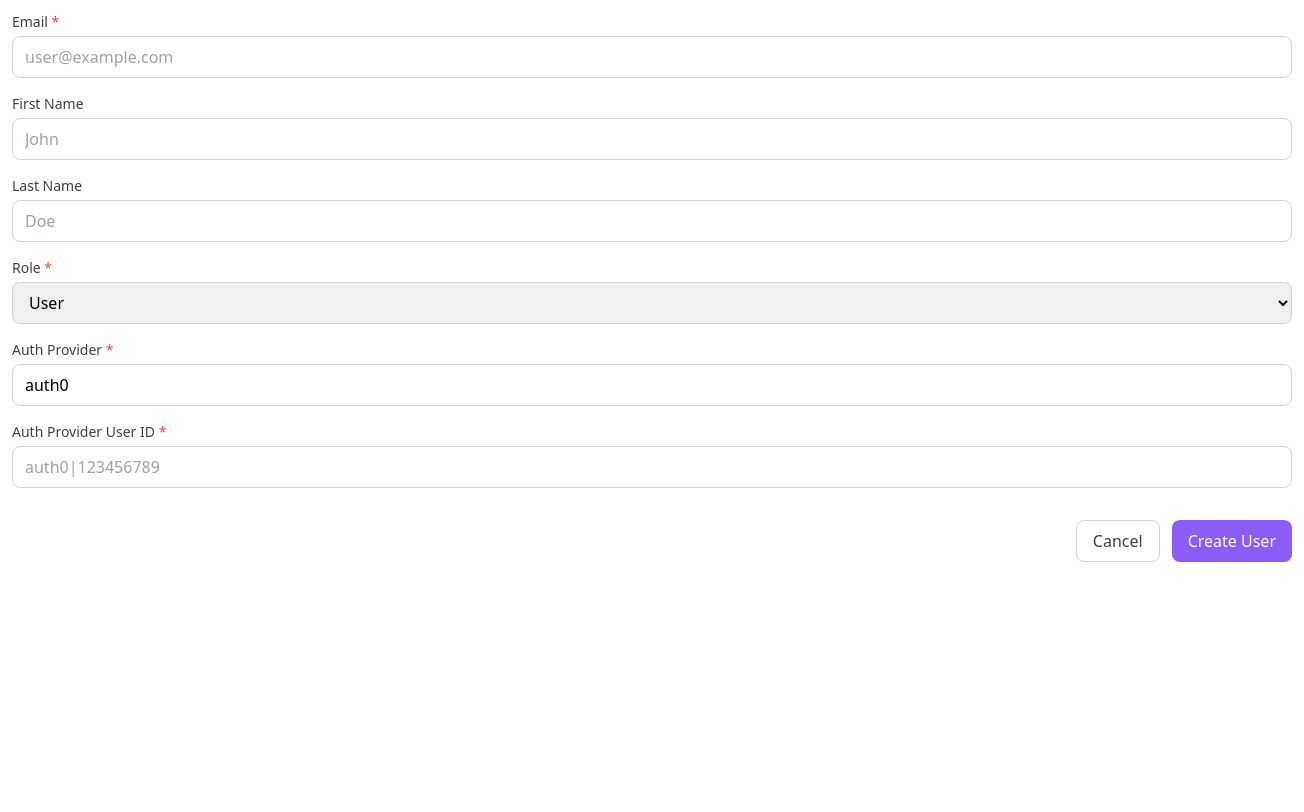
it: UserForm › validates auth provider is required for create
The width and height of the screenshot is (1304, 812).
Type "test@example.com" into the field labelled "Email *".
click(652, 57); type("test@example.com")  # box x1=12 y1=36 x2=1292 y2=78
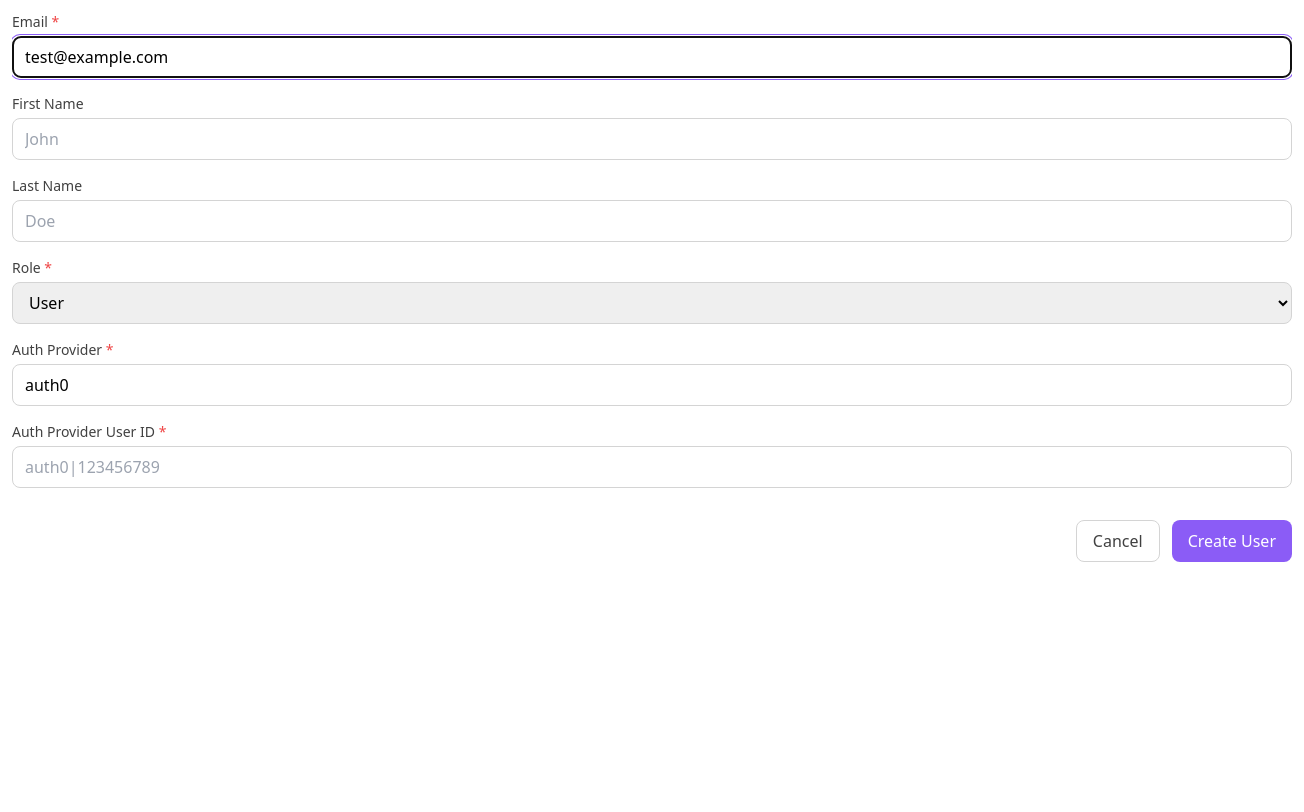
Clear the field labelled "Auth Provider *" at (652, 385), box x1=12 y1=364 x2=1292 y2=406
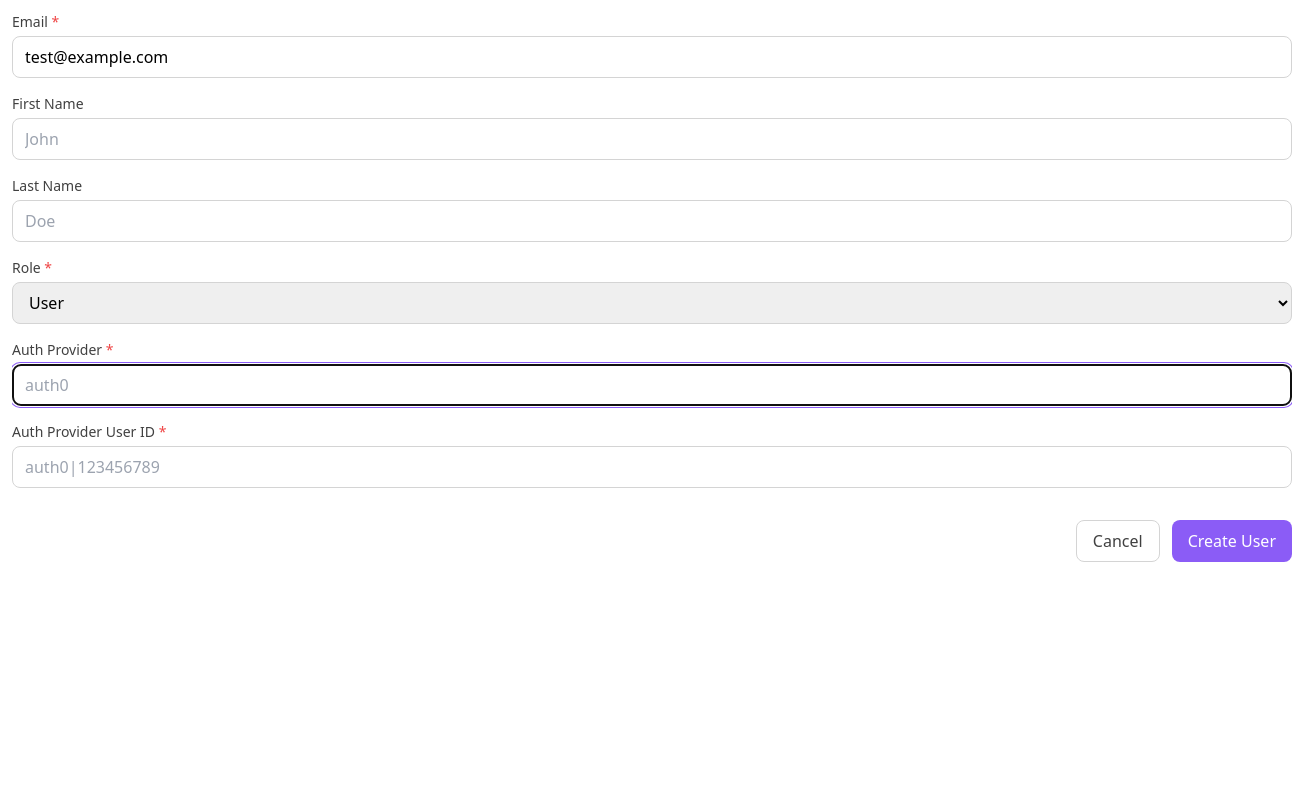
Click the button "Create User".
click(1232, 541)  # box x1=1172 y1=520 x2=1292 y2=562
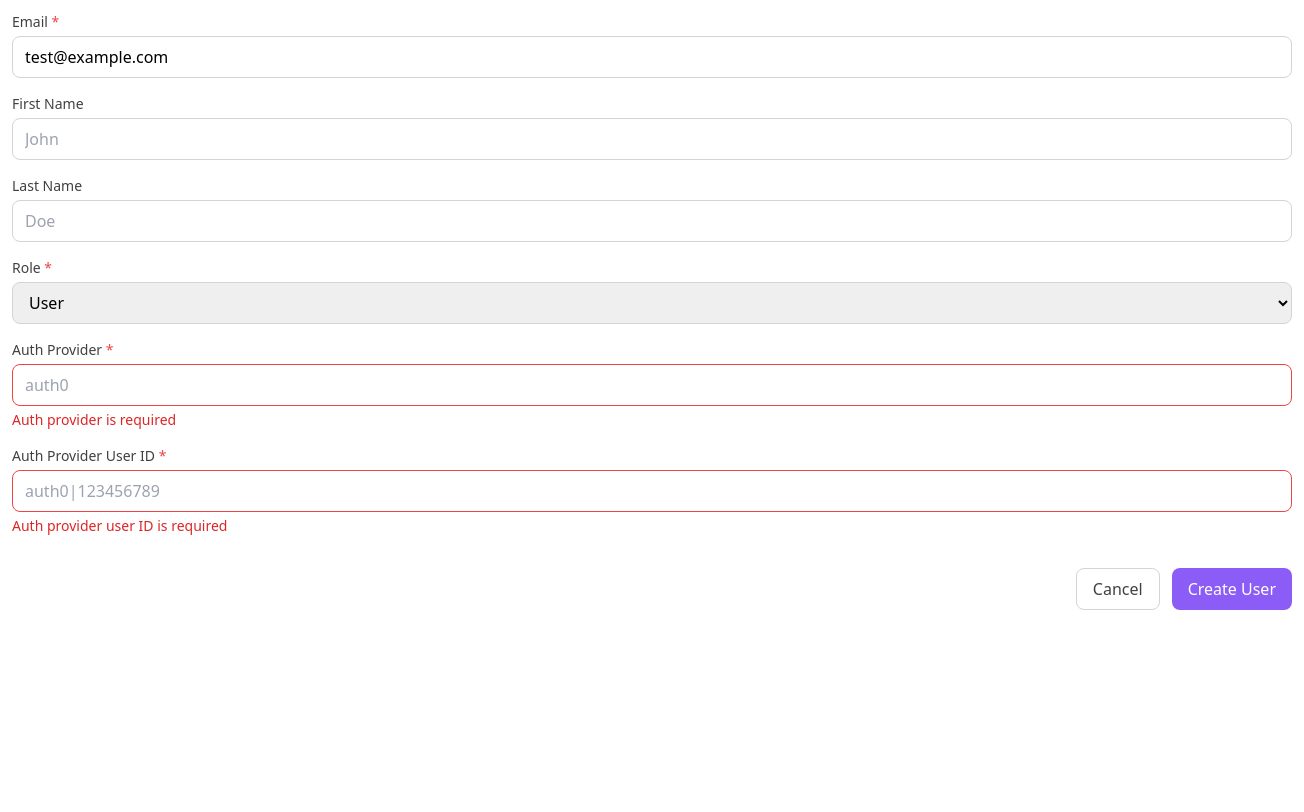
Expected: the text "Auth provider is required" is shown, x1=12 y1=410 x2=176 y2=429
